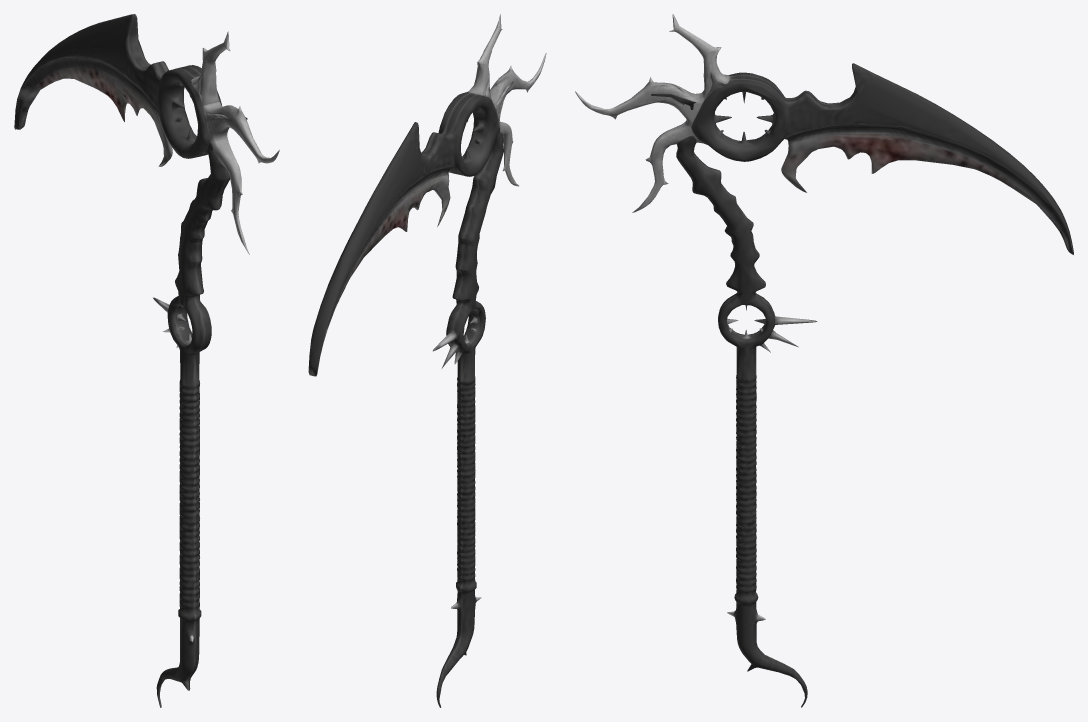
Rendered from scythe.glb.
The picture shows the model from 3 angles, left to right: view 1: azimuth 30°, elevation 25°; view 2: azimuth 150°, elevation 25°; view 3: azimuth 270°, elevation 25°; orthographic projection. The views are drawn at different scales.
Visible parts, largest first — view 1: Circle.001; view 2: Circle.001; view 3: Circle.001.
Part boxes in pixels (<box>): Circle.001: <box>14,14,279,707</box>; Circle.001: <box>308,14,546,707</box>; Circle.001: <box>575,14,1073,707</box>.
Bounding box in the file's own units: 0.5241 × 15.37 × 10.01.
1 material, 1 textured.
